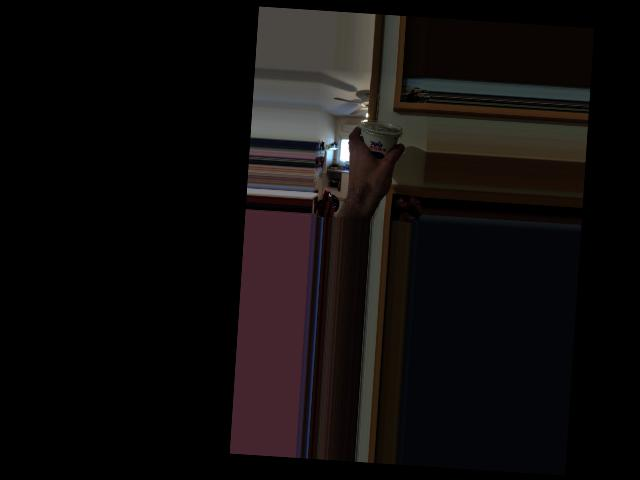cotage: (352, 117, 401, 170)
